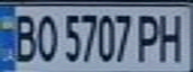0: (97, 10, 118, 63)
5: (60, 10, 81, 63)
7: (112, 10, 136, 63), (78, 10, 100, 63)
B: (6, 9, 39, 63)
H: (154, 9, 190, 63)
O: (33, 9, 60, 63)
P: (133, 10, 166, 63)
